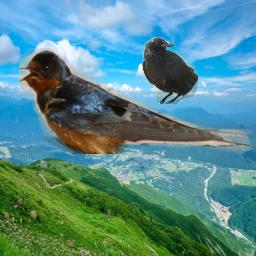Crow: (142, 37, 198, 104)
Swallow: (19, 48, 252, 154)
